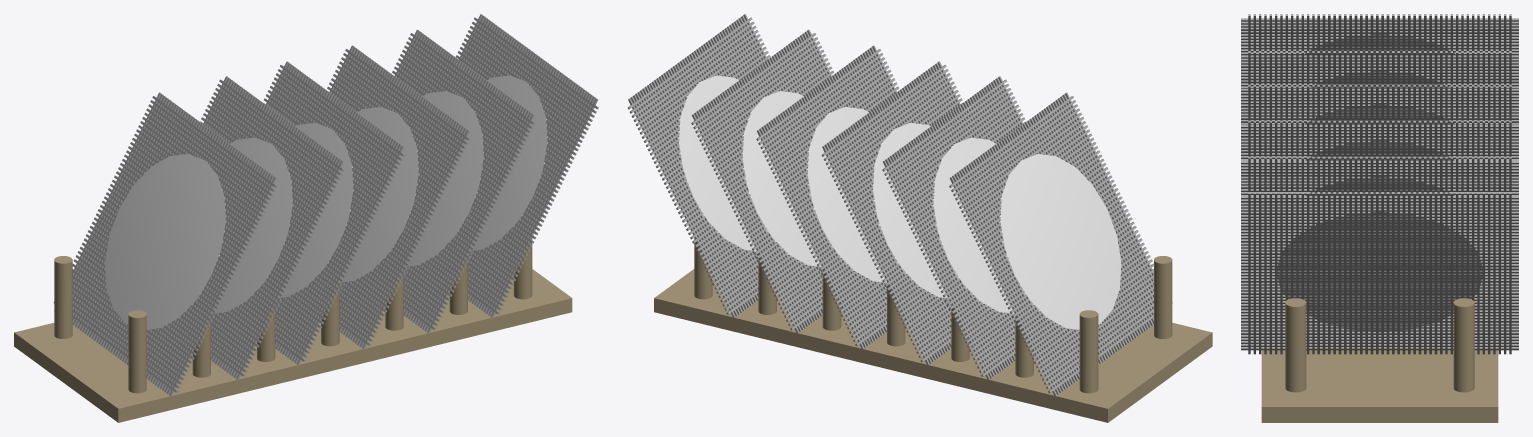
File: Wire gauze.fbx
3 renders of one model, left to right at view 1: azimuth 30°, elevation 25°; view 2: azimuth 150°, elevation 25°; view 3: azimuth 270°, elevation 25°, orthographic. The views are drawn at different scales.
Parts seen in each view (by area): view 1: pCube57, pCylinder16, pCube56, pCube58, pCube59, pCube60, pCube54; view 2: pCube57, pCylinder16, pCube56, pCube58, pCube59, pCube60, pCube54; view 3: pCube60, pCylinder16, pCube57, pCube54, pCube58, pCube59, pCube56.
Boxes of the visible parts, bbox=[...] form: pCube57: bbox=[53, 92, 277, 396]; pCylinder16: bbox=[14, 238, 572, 422]; pCube56: bbox=[200, 76, 343, 380]; pCube58: bbox=[327, 45, 469, 349]; pCube59: bbox=[392, 29, 534, 333]; pCube60: bbox=[456, 14, 598, 317]; pCube54: bbox=[264, 61, 404, 365]; pCube57: bbox=[949, 92, 1172, 396]; pCylinder16: bbox=[654, 238, 1212, 422]; pCube56: bbox=[882, 76, 1026, 380]; pCube58: bbox=[756, 45, 899, 349]; pCube59: bbox=[691, 29, 834, 333]; pCube60: bbox=[627, 14, 770, 318]; pCube54: bbox=[821, 61, 962, 365]; pCube60: bbox=[1241, 192, 1518, 354]; pCylinder16: bbox=[1261, 298, 1498, 422]; pCube57: bbox=[1241, 14, 1518, 55]; pCube54: bbox=[1241, 84, 1518, 124]; pCube58: bbox=[1241, 120, 1518, 160]; pCube59: bbox=[1241, 156, 1518, 195]; pCube56: bbox=[1241, 51, 1518, 88].
Size of the model in its own units: 59.05 by 25.34 by 26.44.
